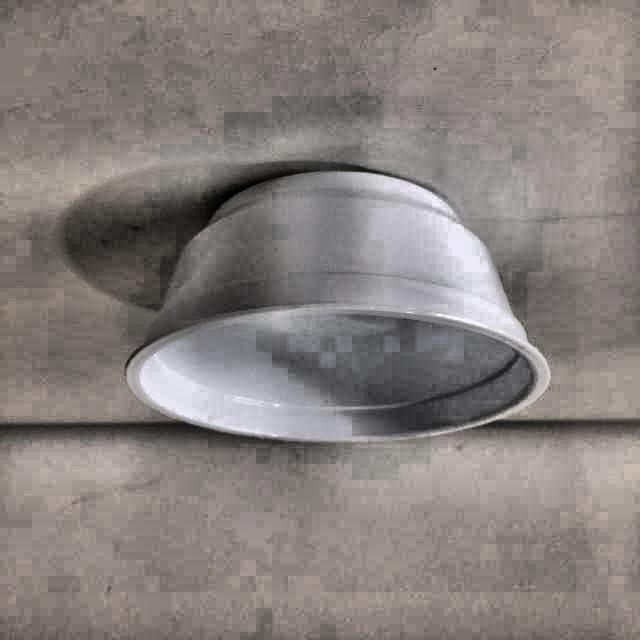Anorganik: (105, 142, 566, 461)
